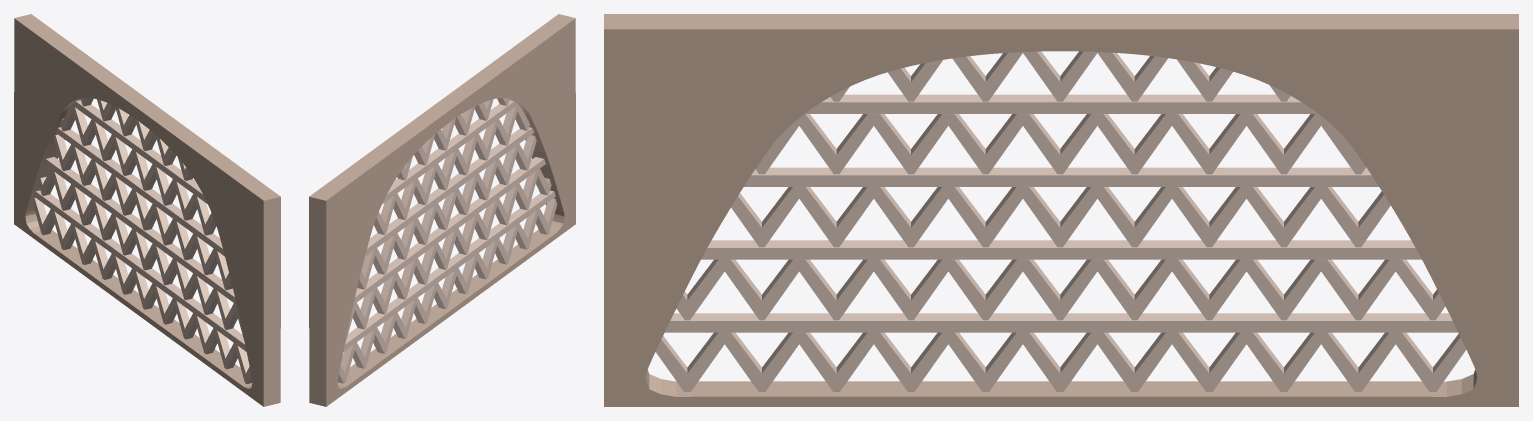
The model's file is upperFloorWindow.fbx.
The picture shows the model from 3 angles, left to right: view 1: azimuth 30°, elevation 25°; view 2: azimuth 150°, elevation 25°; view 3: azimuth 270°, elevation 25°; orthographic projection. The views are drawn at different scales.
Parts seen in each view (by area): view 1: upperFloorWindow; view 2: upperFloorWindow; view 3: upperFloorWindow.
Part boxes in pixels (x1,y1,x2,y2): upperFloorWindow: [14, 14, 280, 406]; upperFloorWindow: [309, 14, 575, 406]; upperFloorWindow: [604, 14, 1518, 406].
Bounding box in the file's own units: 10.07 × 115 × 253.
